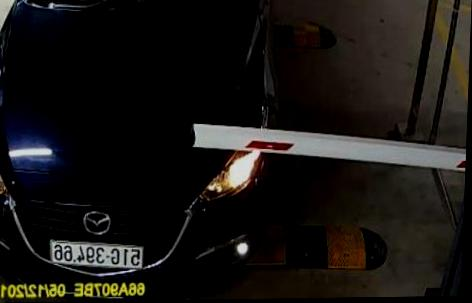License_Plate: (47, 233, 150, 273)
